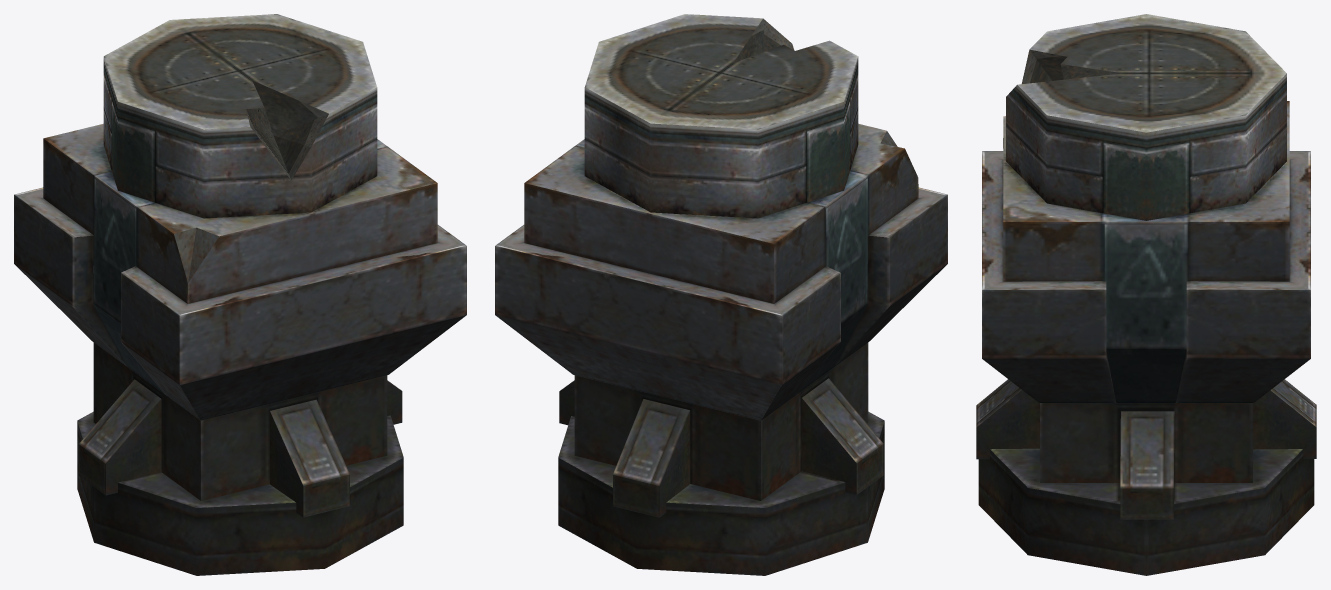
The model's file is yw_huanghunhupan_fengxiang01.FBX.
3 renders of one model, left to right at view 1: azimuth 30°, elevation 25°; view 2: azimuth 150°, elevation 25°; view 3: azimuth 270°, elevation 25°, orthographic.
Parts seen in each view (by area): view 1: yw_huanghunhupan_fengxiang01; view 2: yw_huanghunhupan_fengxiang01; view 3: yw_huanghunhupan_fengxiang01.
Part boxes in pixels (box(x1,y1,x2,y2)): yw_huanghunhupan_fengxiang01: box(14, 14, 466, 575); yw_huanghunhupan_fengxiang01: box(495, 14, 947, 575); yw_huanghunhupan_fengxiang01: box(976, 14, 1316, 575).
Bounding box in the file's own units: 88.07 × 123 × 88.07.
